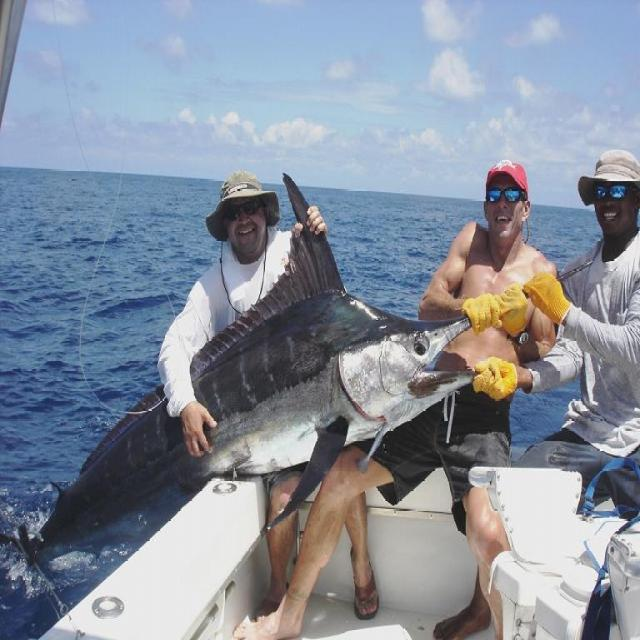Liberacion no segura: (1, 171, 595, 566)
